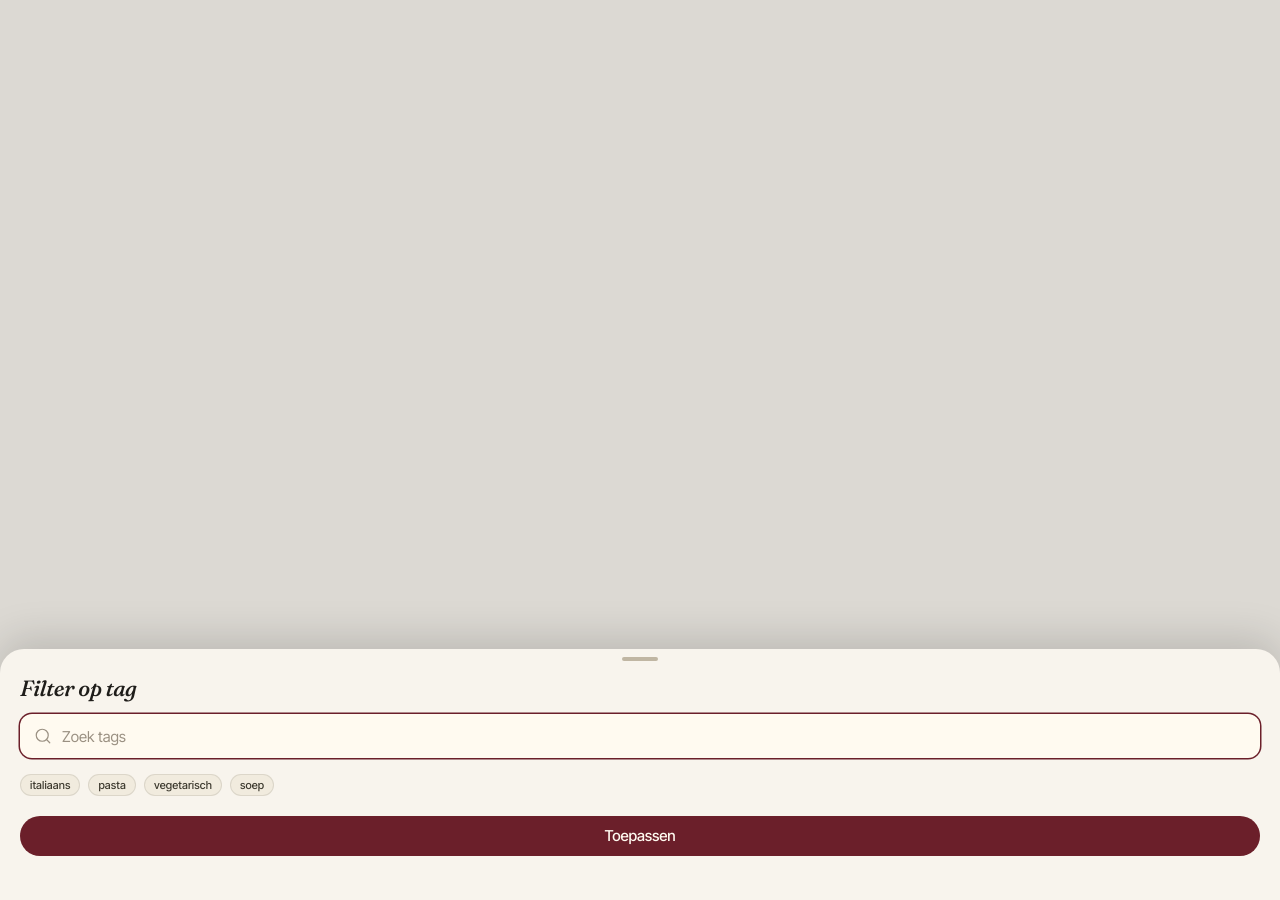
Test: FilterSheet › filters displayed tags when typing in the search input
Type "pasta" into the field with placeholder "Zoek tags" at {"x": 640, "y": 736}, box [20,714,1260,758]
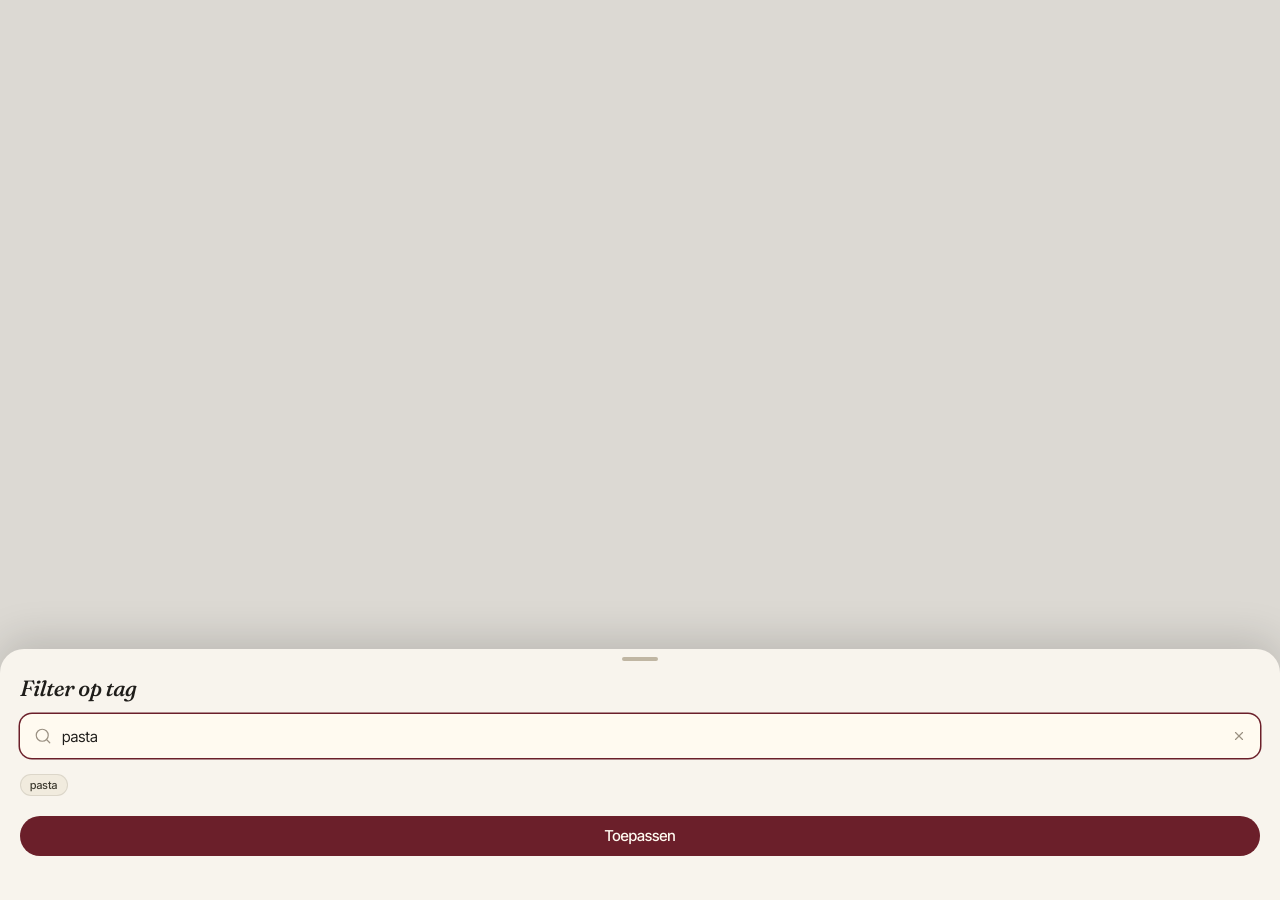
Check: the button "pasta" is shown, box [20,774,68,796]
Check: the button "italiaans" is gone
